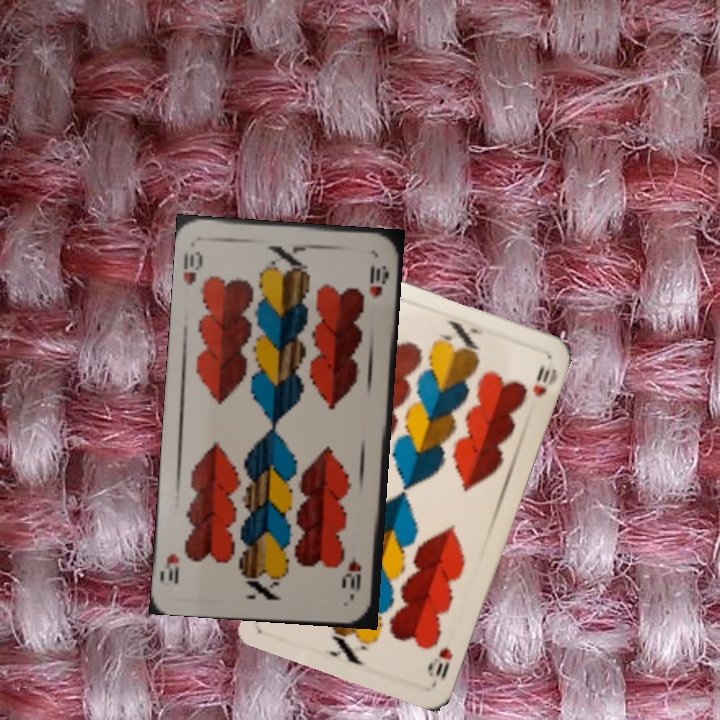H10: (424, 643, 455, 687), (179, 246, 206, 287), (345, 551, 364, 594)
